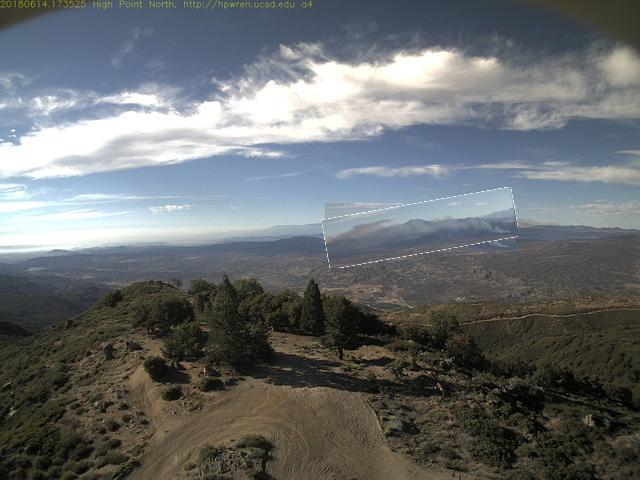smoke: (325, 196, 519, 262)
